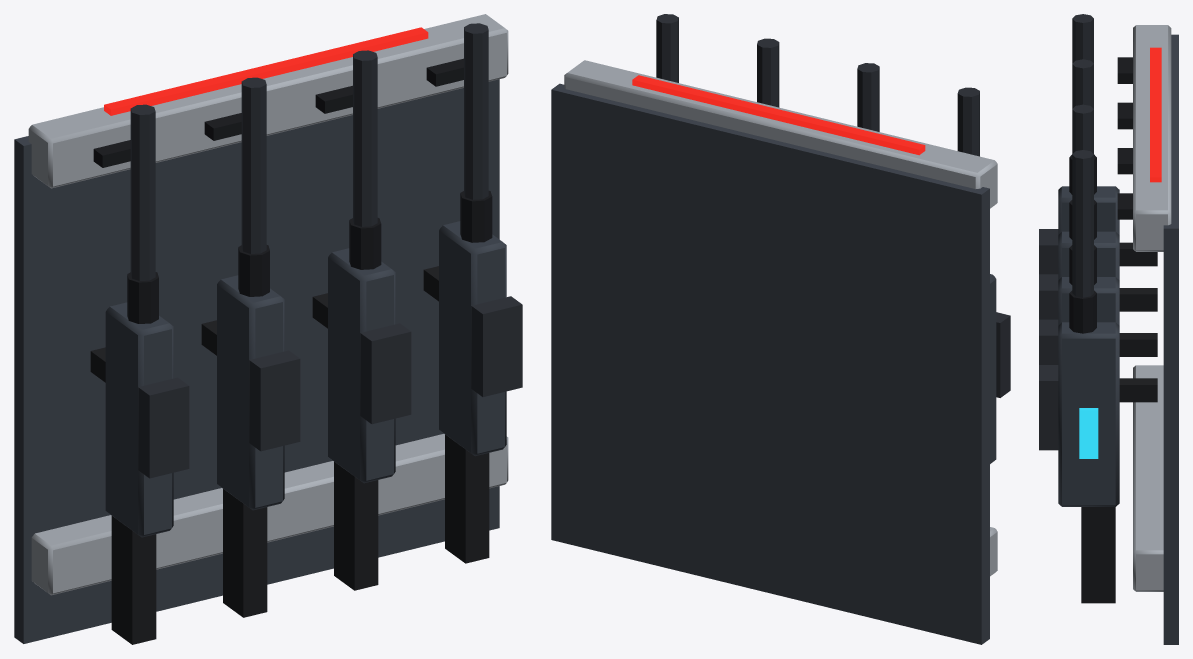
The model's file is weaponrack_heavy_rifle_rack.glb.
The picture shows the model from 3 angles, left to right: view 1: azimuth 30°, elevation 25°; view 2: azimuth 150°, elevation 25°; view 3: azimuth 270°, elevation 25°; orthographic projection. The views are drawn at different scales.
Visible parts, largest first — view 1: weaponrack_heavy_rifle_rack; view 2: weaponrack_heavy_rifle_rack; view 3: weaponrack_heavy_rifle_rack.
Boxes of the visible parts, x1,y1,x2,y2 form: weaponrack_heavy_rifle_rack: [14, 14, 522, 644]; weaponrack_heavy_rifle_rack: [551, 14, 1010, 644]; weaponrack_heavy_rifle_rack: [1039, 14, 1178, 644].
Size of the model in its own units: 1.2 by 1.33 by 0.365.
